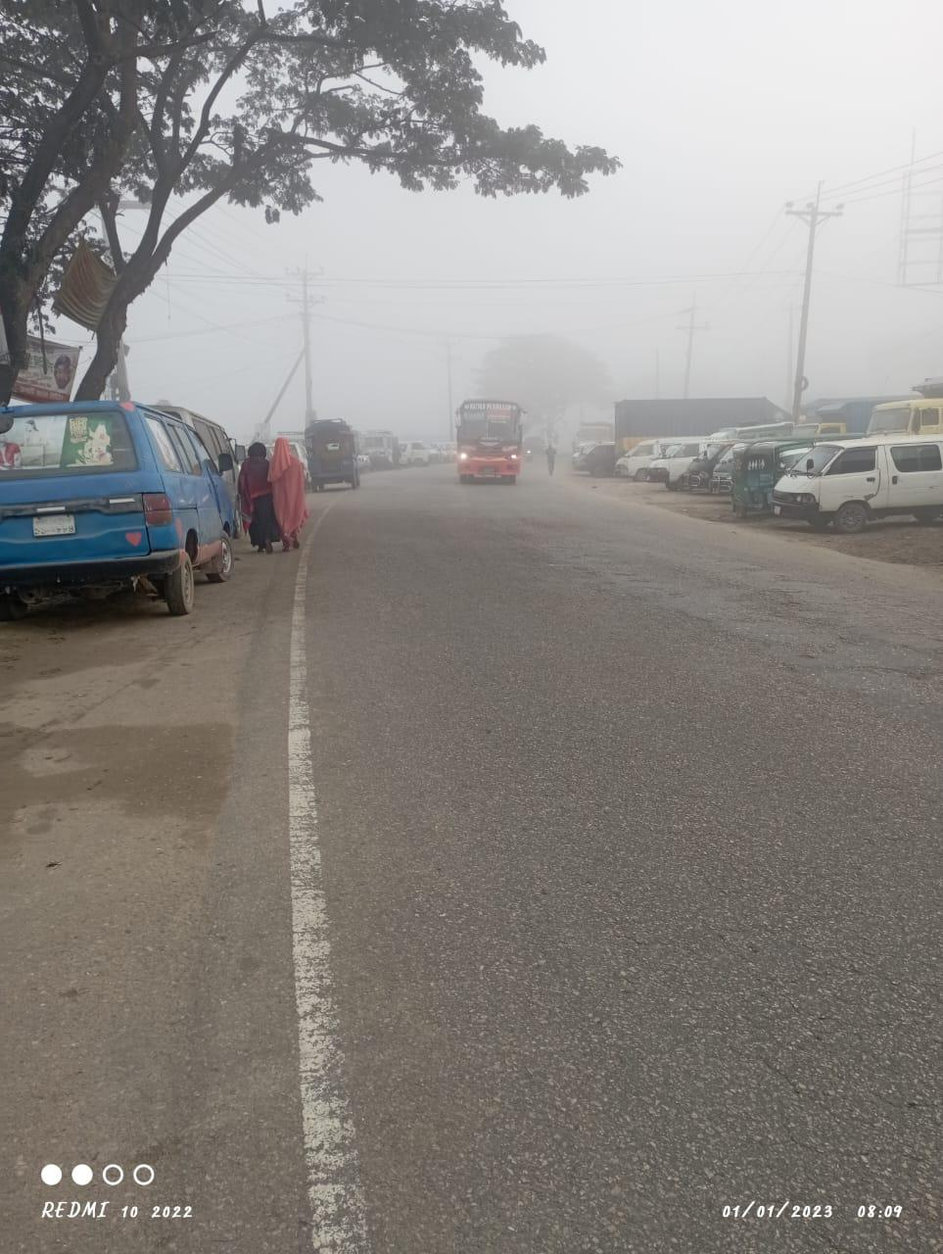Bus: (445, 392, 529, 489)
Car: (2, 383, 239, 627), (756, 432, 940, 532), (306, 411, 364, 505)
Truck: (615, 393, 785, 458)
